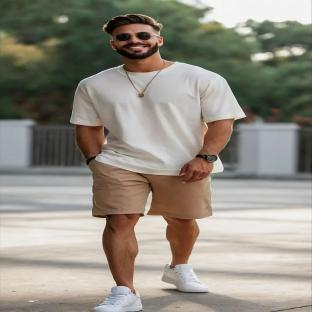Human: (70, 14, 245, 312)
